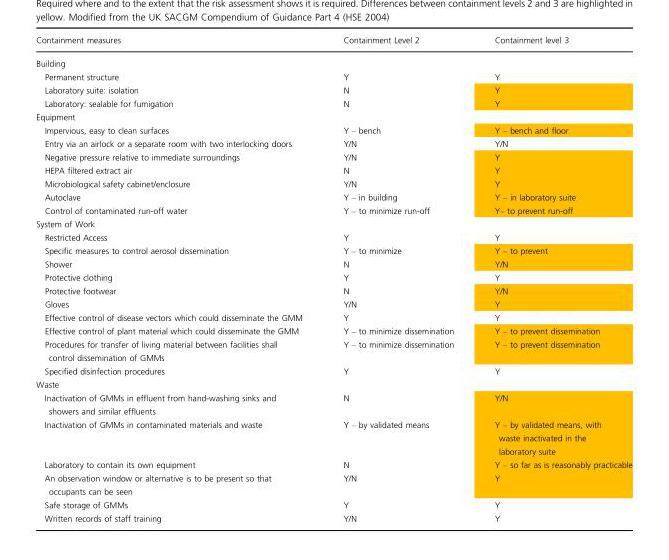table: (35, 35, 631, 522)
table column: (35, 35, 322, 522), (473, 35, 631, 522), (322, 35, 473, 522)
table column header: (35, 35, 631, 51)
table projected row header: (35, 51, 631, 70), (35, 377, 631, 391), (35, 110, 631, 123), (35, 217, 631, 230)
table row: (35, 417, 631, 457), (35, 337, 631, 364), (35, 471, 631, 498), (35, 391, 631, 417), (35, 51, 631, 70), (35, 35, 631, 51), (35, 96, 631, 110), (35, 123, 631, 137), (35, 163, 631, 177), (35, 203, 631, 217), (35, 243, 631, 257), (35, 270, 631, 284), (35, 323, 631, 337), (35, 377, 631, 391), (35, 457, 631, 471), (35, 70, 631, 83), (35, 83, 631, 96), (35, 110, 631, 123), (35, 137, 631, 150), (35, 150, 631, 163), (35, 177, 631, 190), (35, 190, 631, 203), (35, 217, 631, 230), (35, 230, 631, 243), (35, 257, 631, 270), (35, 284, 631, 297), (35, 297, 631, 310), (35, 310, 631, 323), (35, 364, 631, 377), (35, 498, 631, 511), (35, 511, 631, 522)
